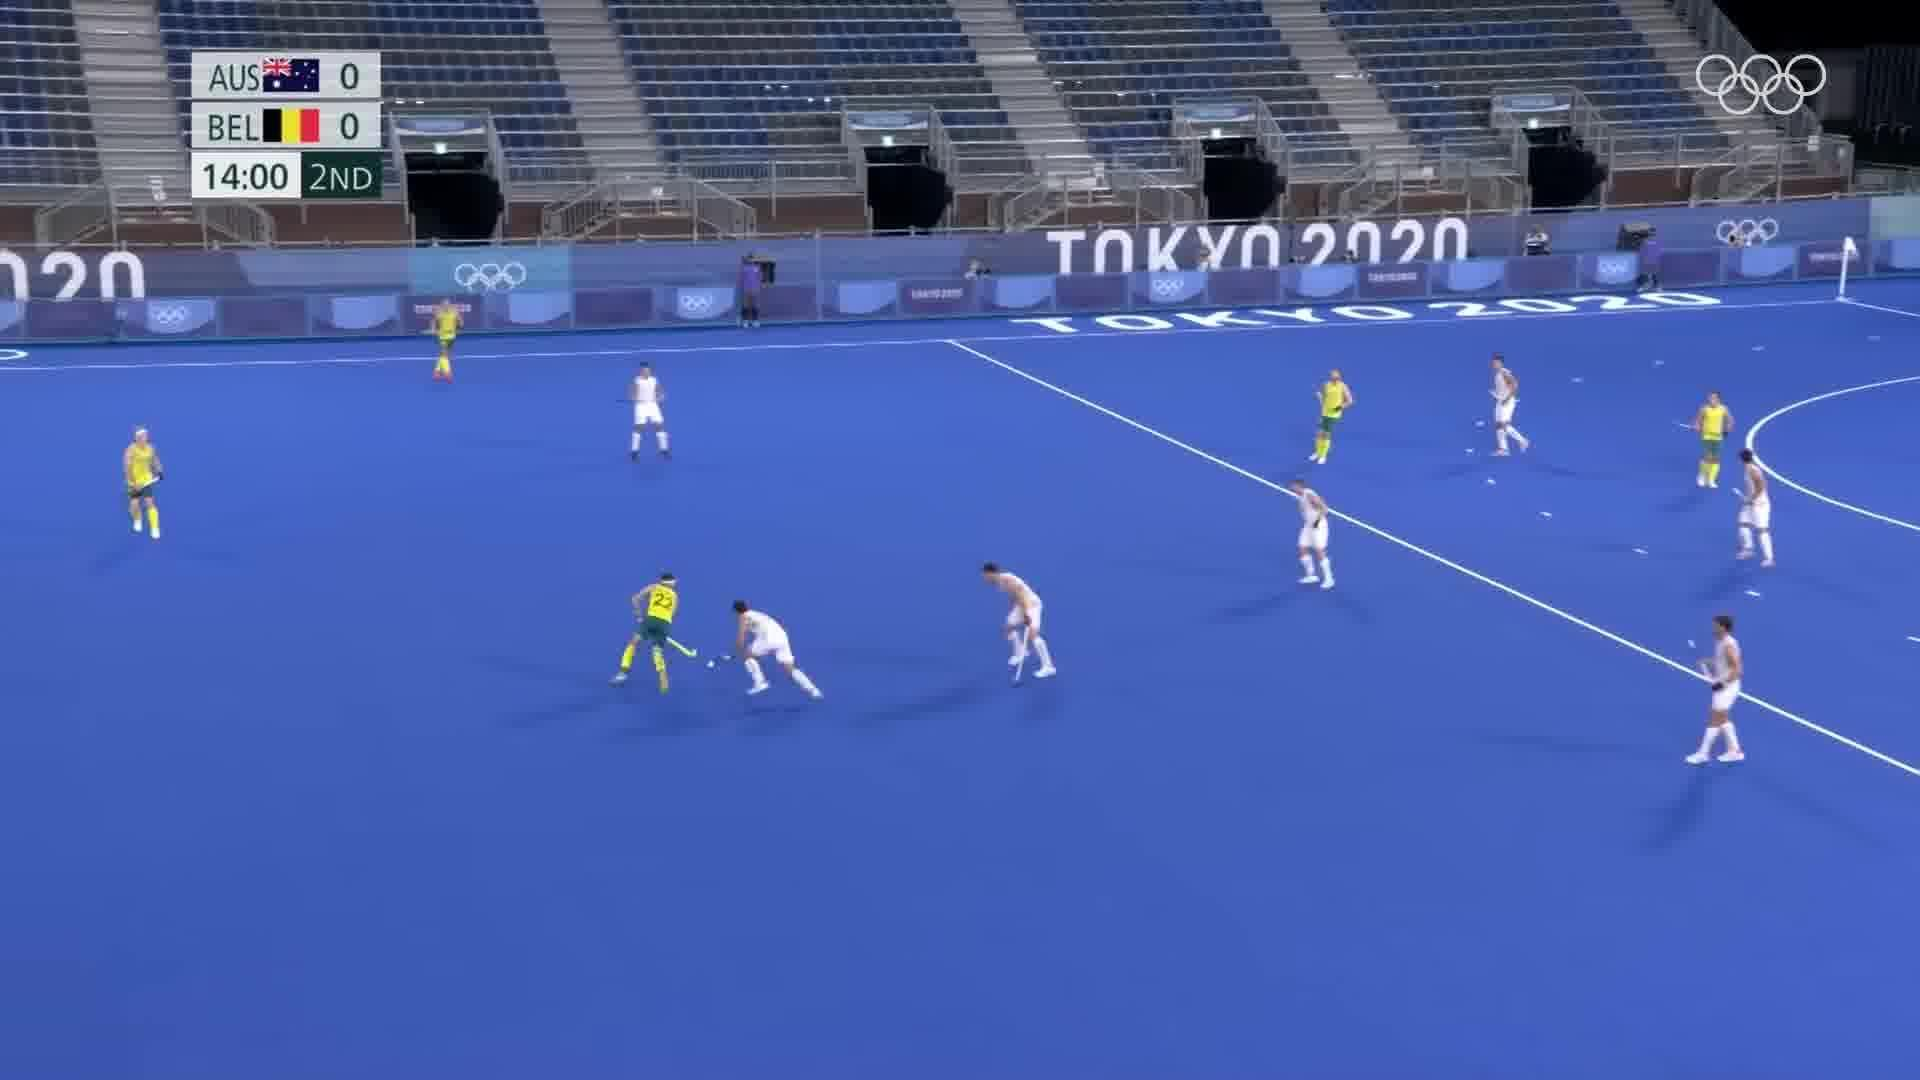ball: (702, 657, 719, 675)
